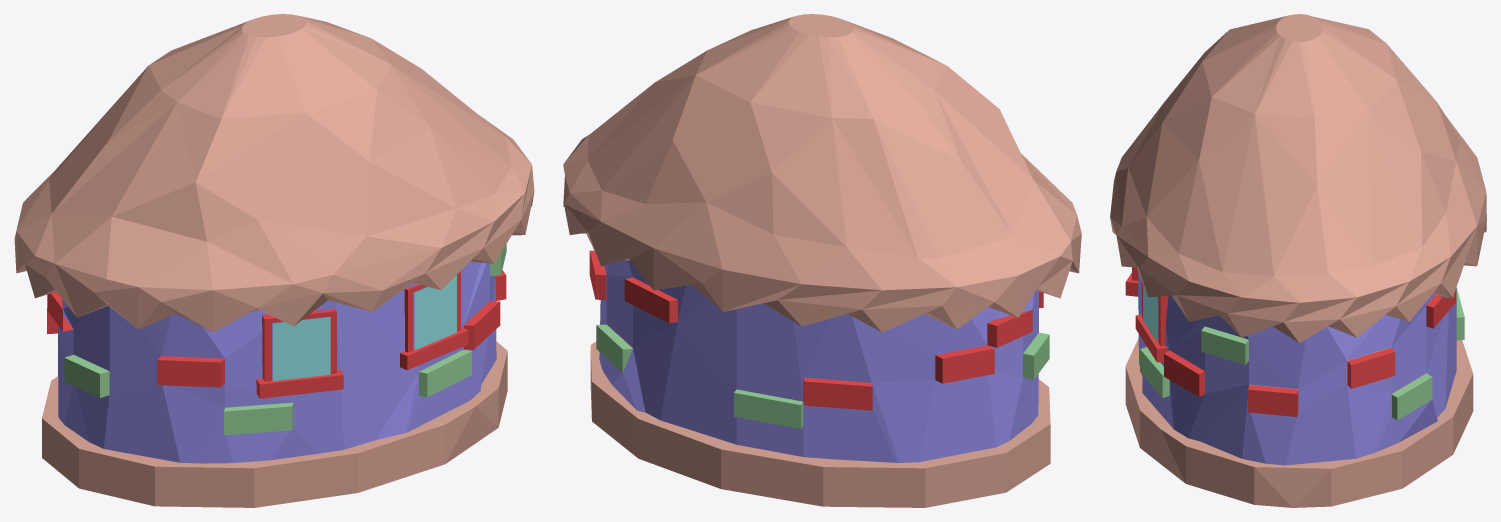
The model's file is Maison2.FBX.
3 renders of one model, left to right at view 1: azimuth 30°, elevation 25°; view 2: azimuth 150°, elevation 25°; view 3: azimuth 270°, elevation 25°, orthographic. The views are drawn at different scales.
Visible parts, largest first — view 1: Cylinder041; view 2: Cylinder041; view 3: Cylinder041.
Boxes of the visible parts, x1,y1,x2,y2 form: Cylinder041: [14, 14, 534, 507]; Cylinder041: [563, 14, 1081, 507]; Cylinder041: [1110, 14, 1486, 507].
Bounding box in the file's own units: 7.48 × 5.94 × 5.34.
